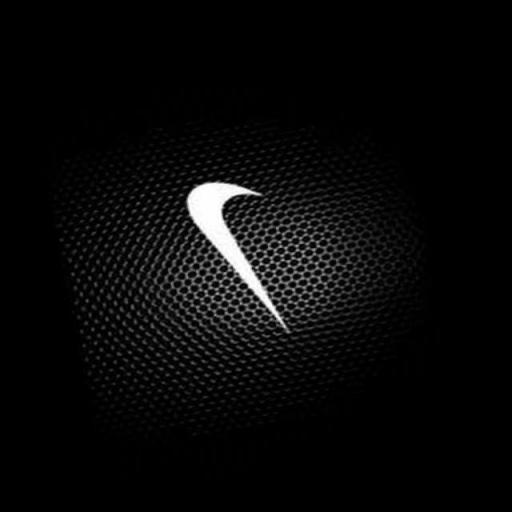Nike: (180, 169, 294, 353)
